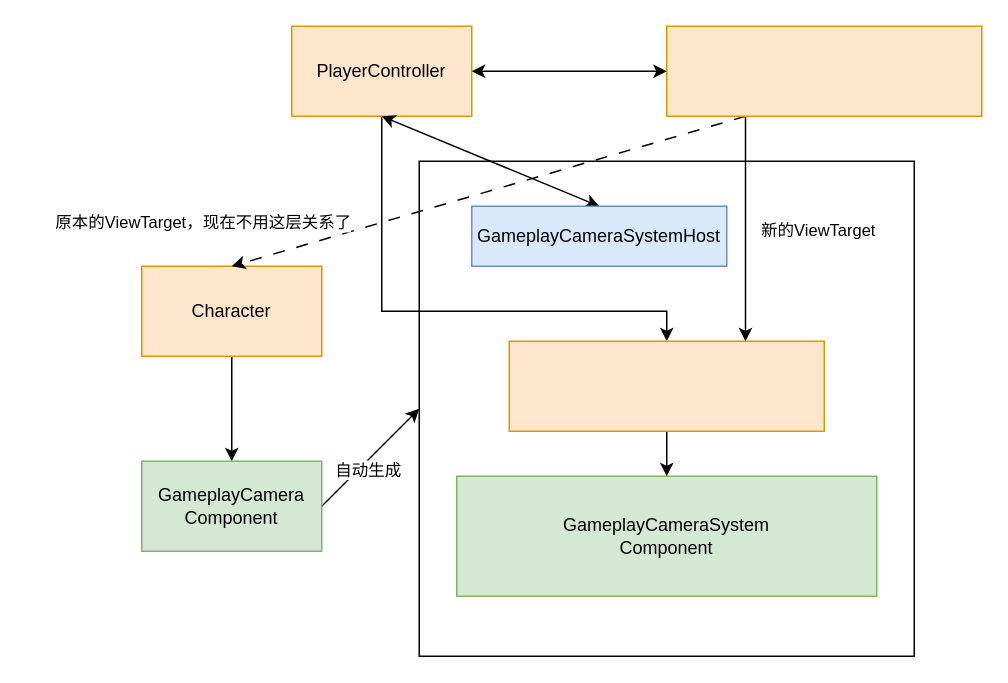
Image size: 1008x683. Some labels were removed from this diagram. Each missing label, with the centre of its shape:
GameplayCameraSystem Actor: the point at 666,385
PlayerCameraManager: the point at 823,70
